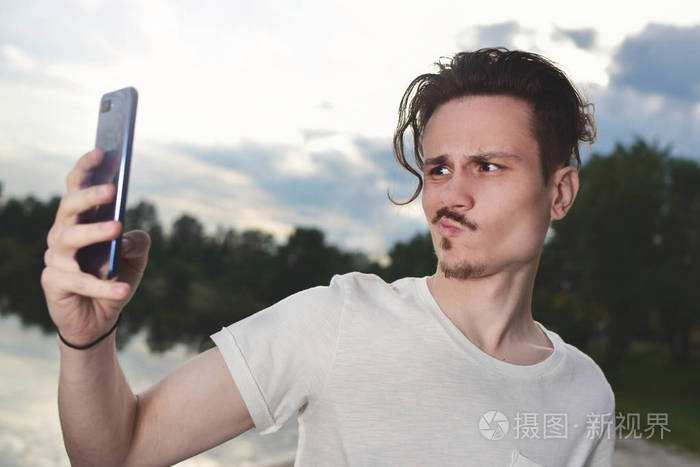taking photos: (31, 82, 154, 354)
